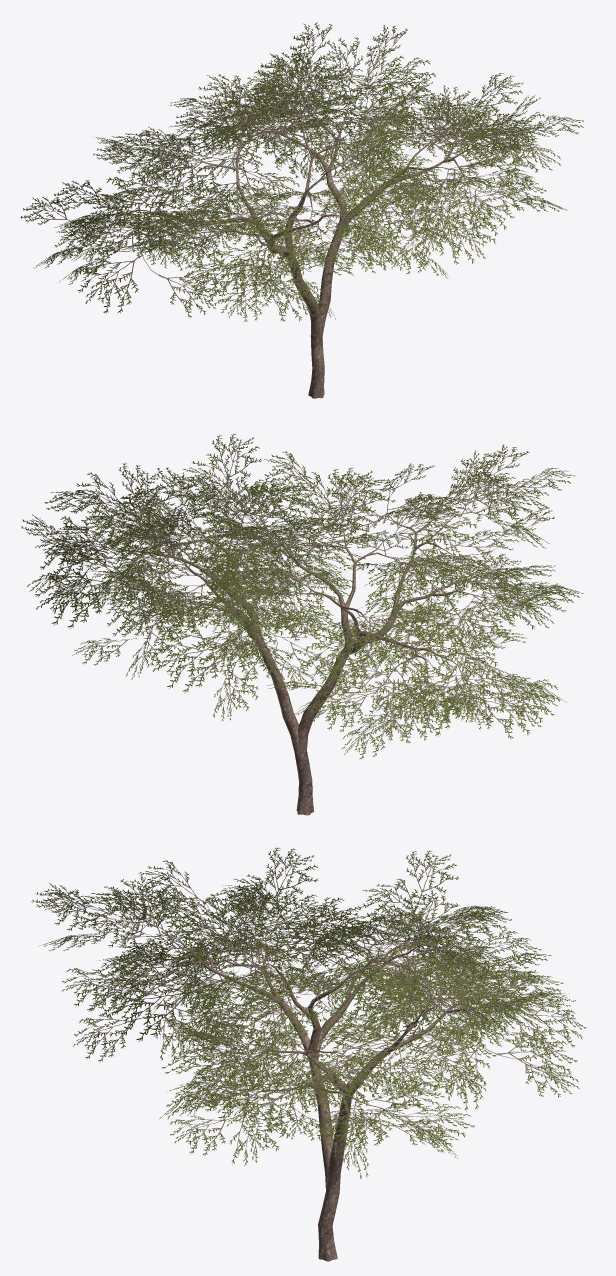
Rendered from acacia-single.glb.
The picture shows the model from 3 angles, top to bottom: view 1: azimuth 30°, elevation 25°; view 2: azimuth 150°, elevation 25°; view 3: azimuth 270°, elevation 25°; orthographic projection. The views are drawn at different scales.
Parts seen in each view (by area): view 1: acacia branch_1, bark05_0; view 2: acacia branch_1, bark05_0; view 3: acacia branch_1, bark05_0.
Boxes of the visible parts, x1,y1,x2,y2 form: acacia branch_1: (20, 22, 583, 321); bark05_0: (75, 63, 531, 398); acacia branch_1: (21, 433, 583, 759); bark05_0: (76, 477, 514, 815); acacia branch_1: (31, 847, 586, 1178); bark05_0: (95, 900, 538, 1261).
Bounding box in the file's own units: 12.8 × 6.9 × 10.39.
2 materials, 2 textured.
